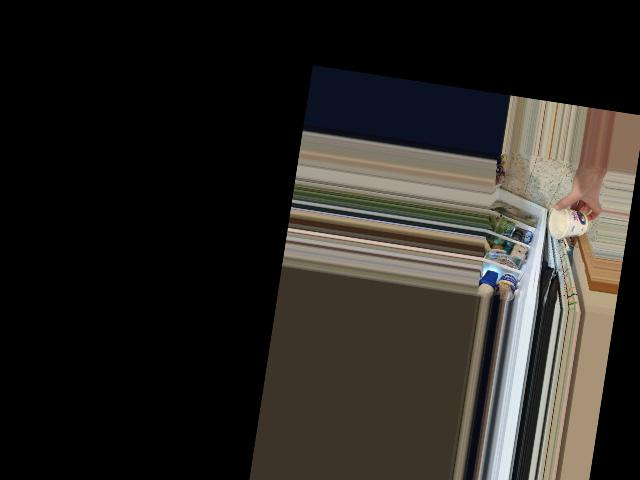cotage: (546, 203, 593, 242)
